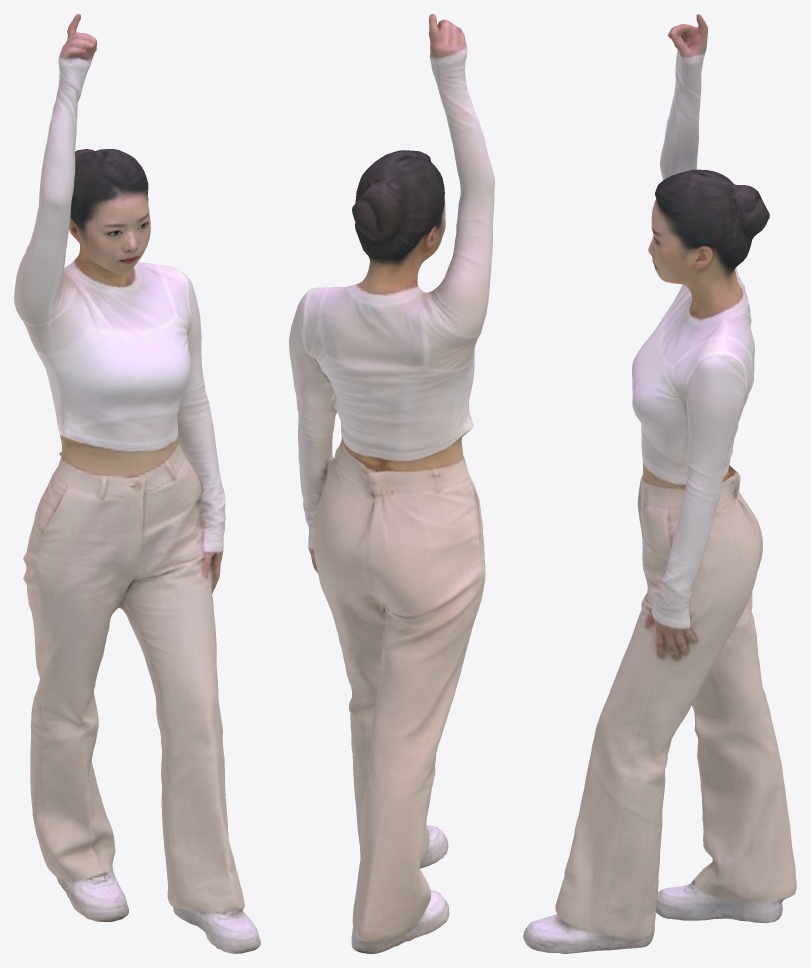
Rendered from waacking_draco.glb.
3 renders of one model, left to right at view 1: azimuth 30°, elevation 25°; view 2: azimuth 150°, elevation 25°; view 3: azimuth 270°, elevation 25°, orthographic. The views are drawn at different scales.
Visible parts, largest first — view 1: Frame_0065; view 2: Frame_0065; view 3: Frame_0065.
Boxes of the visible parts, bbox=[...] form: Frame_0065: bbox=[14, 14, 260, 953]; Frame_0065: bbox=[289, 14, 494, 953]; Frame_0065: bbox=[523, 14, 796, 953].
Size of what is drawn, in the model's own units: 0.4289 by 1.93 by 0.5378.
1 material, 1 textured.
